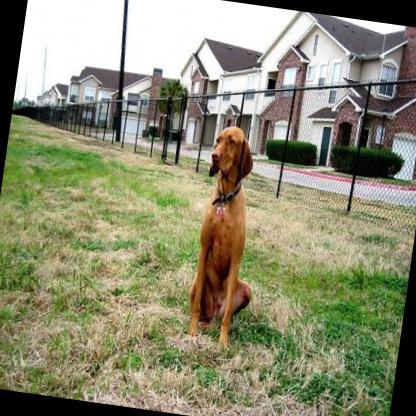vizsla: (180, 122, 276, 361)
